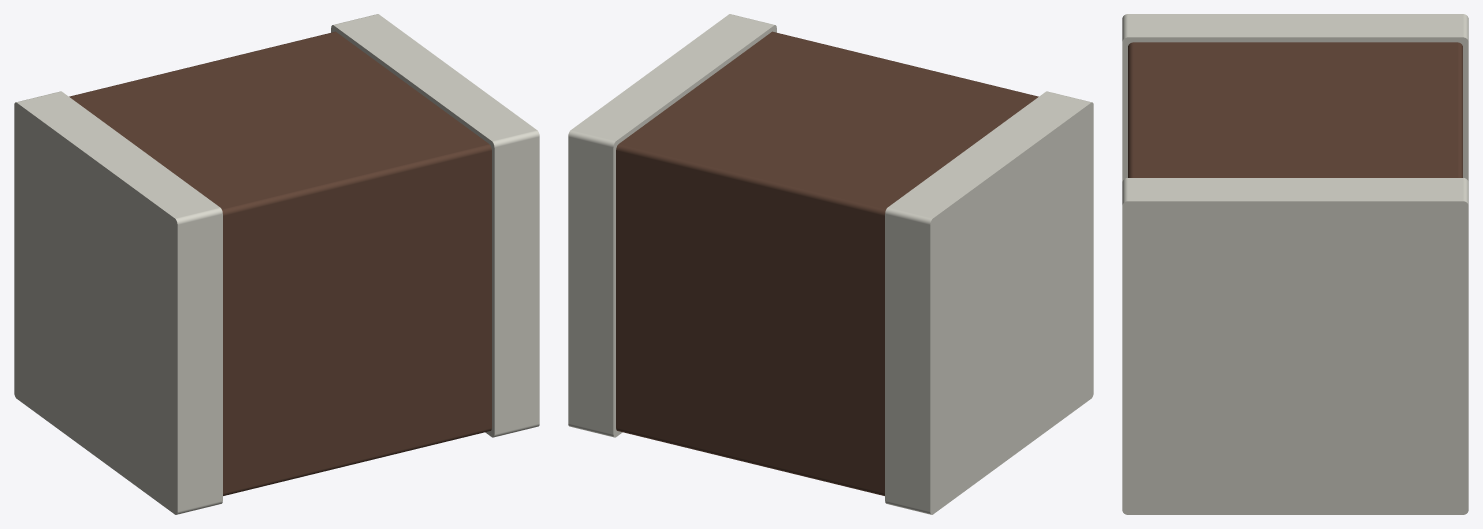
File: Capacitor_SMD_C_1210_3225Metric.glb
3 views of the same model, side by side, from view 1: azimuth 30°, elevation 25°; view 2: azimuth 150°, elevation 25°; view 3: azimuth 270°, elevation 25° (orthographic). The views are drawn at different scales.
Parts seen in each view (by area): view 1: C_1210_3225Metric; view 2: C_1210_3225Metric; view 3: C_1210_3225Metric.
Part boxes in pixels (x1,y1,x2,y2): C_1210_3225Metric: (14, 14, 539, 514); C_1210_3225Metric: (568, 14, 1093, 514); C_1210_3225Metric: (1122, 14, 1468, 514).
Bounding box in the file's own units: 0.0032 × 0.0025 × 0.0025.
